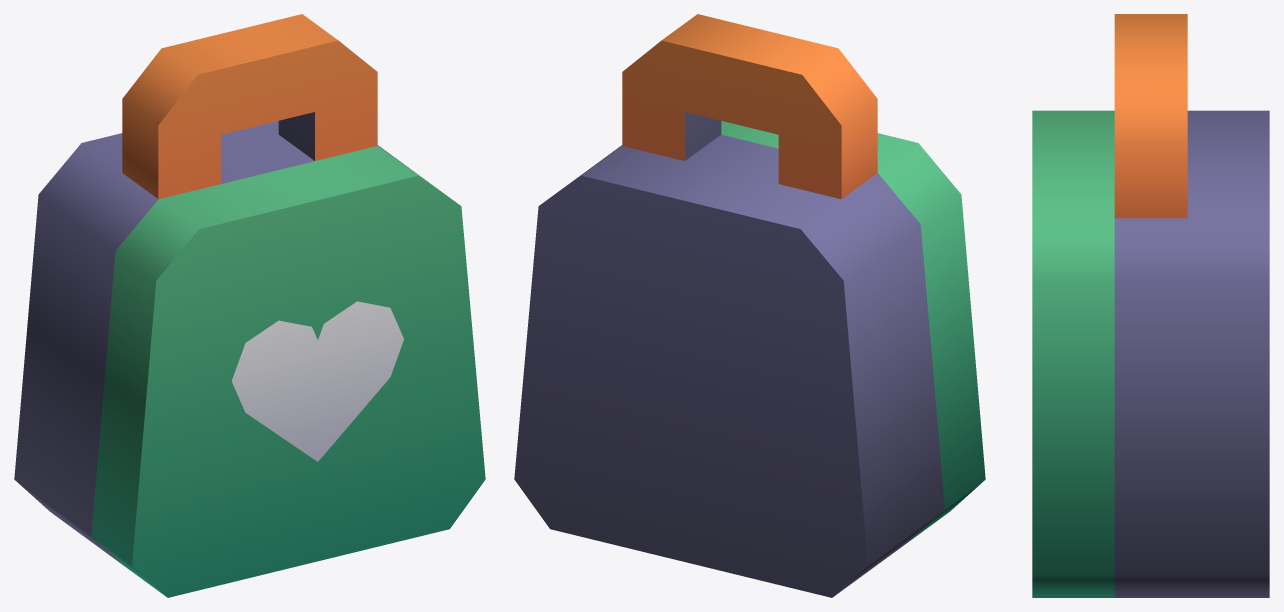
Rendered from aid-defibrillator-green.obj.
3 renders of one model, left to right at view 1: azimuth 30°, elevation 25°; view 2: azimuth 150°, elevation 25°; view 3: azimuth 270°, elevation 25°, orthographic.
Parts seen in each view (by area): view 1: aid-defibrillator-green, Group; view 2: aid-defibrillator-green; view 3: aid-defibrillator-green.
Boxes of the visible parts, x1,y1,x2,y2 form: aid-defibrillator-green: (14,14,485,597); Group: (231,301,403,461); aid-defibrillator-green: (514,14,985,597); aid-defibrillator-green: (1032,14,1269,597).
Size of the model in its own units: 0.2255 by 0.29 by 0.14.
Materials: 1 (1 with a texture image).
